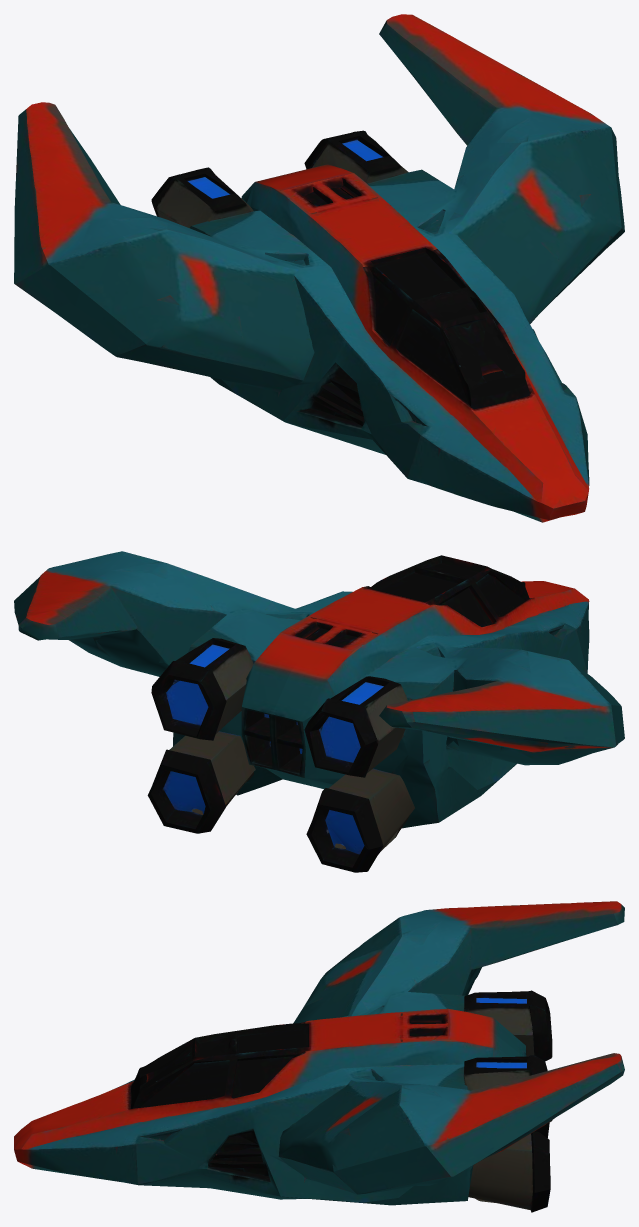
The model's file is nave_07.obj.
The picture shows the model from 3 angles, top to bottom: view 1: azimuth 30°, elevation 25°; view 2: azimuth 150°, elevation 25°; view 3: azimuth 270°, elevation 25°; orthographic projection. The views are drawn at different scales.
Parts seen in each view (by area): view 1: geometry_0; view 2: geometry_0; view 3: geometry_0.
Boxes of the visible parts, x1=… form: geometry_0: x1=14, y1=14, x2=624, y2=522; geometry_0: x1=14, y1=551, x2=624, y2=872; geometry_0: x1=14, y1=901, x2=624, y2=1212.
Size of the model in its own units: 6.85 by 2.46 by 7.
1 material, 1 textured.
